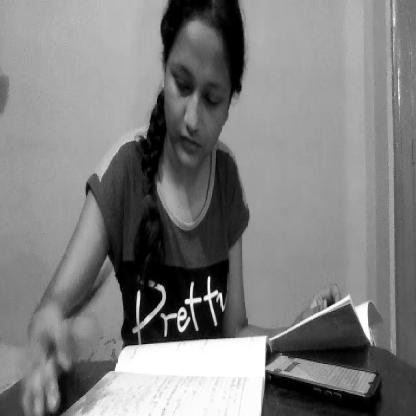Normal: (153, 1, 248, 175)
